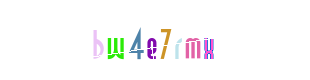4: (111, 0, 191, 80)
7: (115, 0, 195, 80)
B: (75, 0, 155, 80)
E: (112, 0, 192, 80)
M: (125, 0, 205, 80)
R: (115, 0, 195, 80)
W: (97, 0, 177, 80)
X: (154, 0, 234, 80)
